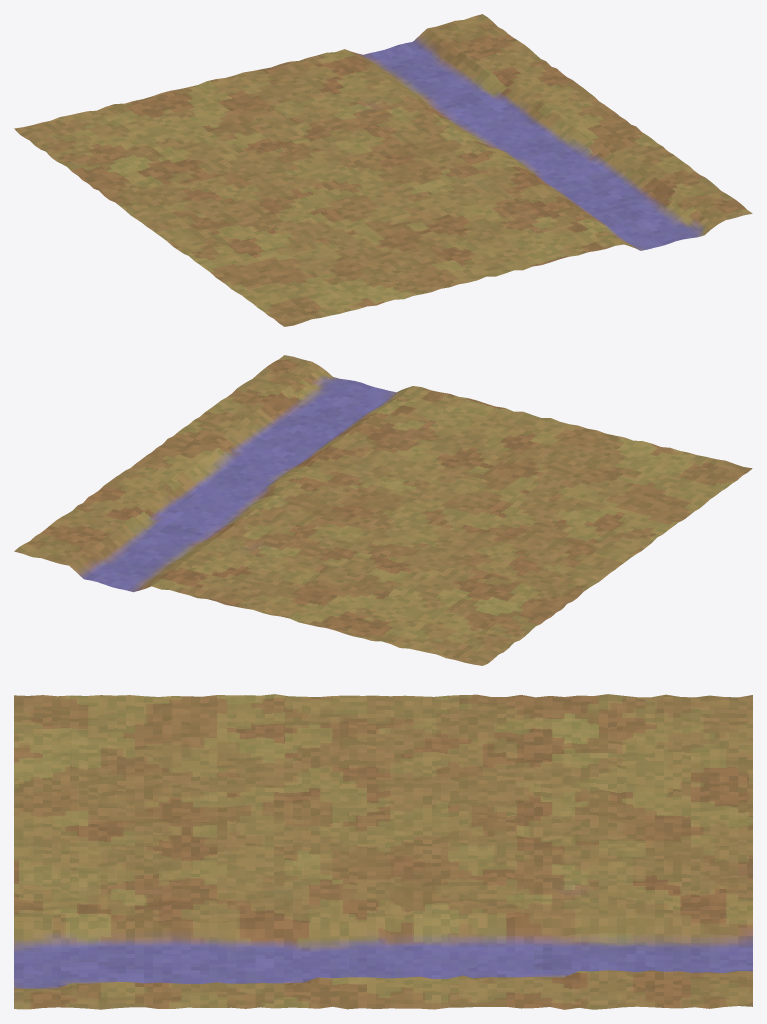
3 views of the same model, one above another, from view 1: azimuth 30°, elevation 25°; view 2: azimuth 150°, elevation 25°; view 3: azimuth 270°, elevation 25° (orthographic). The views are drawn at different scales.
Visible parts, largest first — view 1: Plane; view 2: Plane; view 3: Plane.
Part boxes in pixels (bbox=[...]): Plane: bbox=[14, 14, 752, 326]; Plane: bbox=[14, 355, 752, 665]; Plane: bbox=[14, 694, 752, 1009].
Bounding box in the file's own units: 4 × 0.1044 × 4.
1 material, 1 textured.
